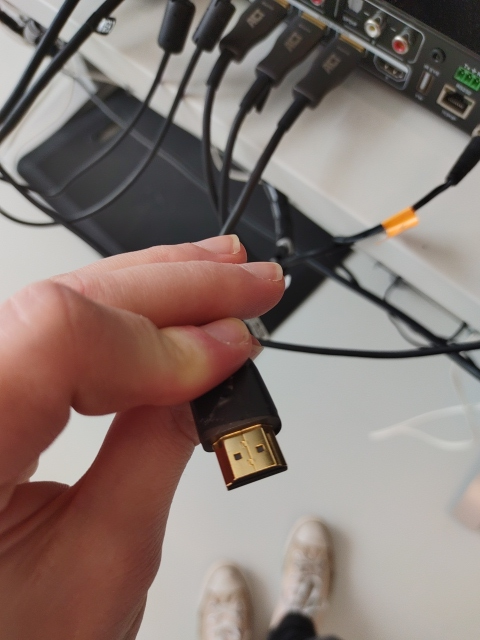3.5mm_audio: (364, 19, 381, 39), (393, 37, 408, 54), (431, 48, 444, 64)
Ethernet: (441, 86, 472, 123)
HDMI: (213, 422, 288, 491), (372, 55, 406, 82)
USB: (417, 69, 435, 97)
